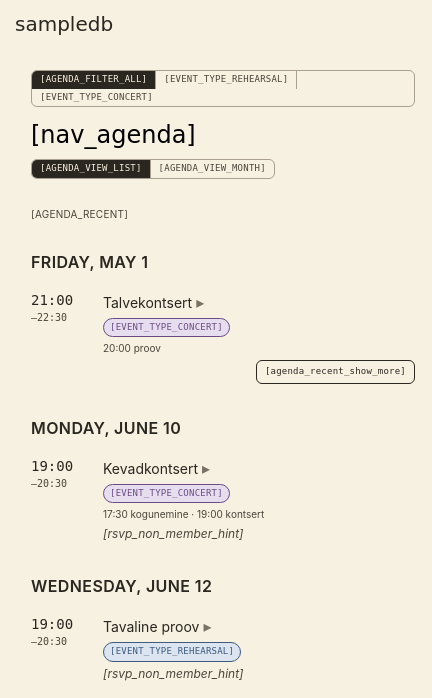
Test: #262 — month view shows NO schedule data (extends the #247 fence with a with-items fixture) › with schedule items present in the system, month rows render none of them — the four-things contract holds
Step 1. Click the button with test id "agenda-view-month" → (212, 169), box x1=151 y1=160 x2=274 y2=178
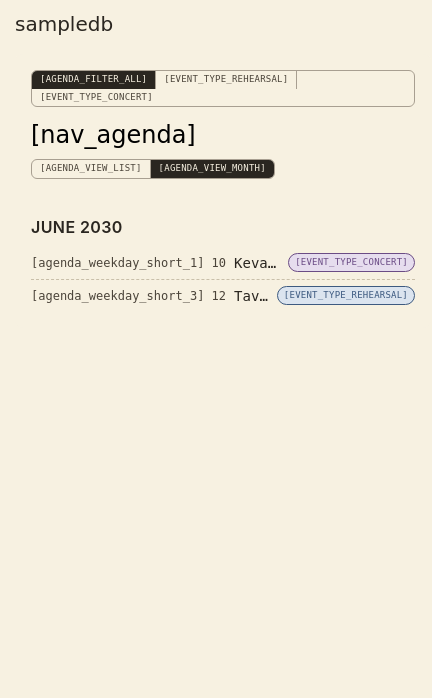
Check: the element with test id "agenda-month-row-up1" is shown, box x1=31 y1=246 x2=415 y2=280
Check: the element with test id "agenda-month-row-up1" shows "Kevadkontsert", box x1=31 y1=252 x2=415 y2=272
Check: the text "[agenda_weekday_short_1] 10" is shown, box x1=31 y1=254 x2=226 y2=270
